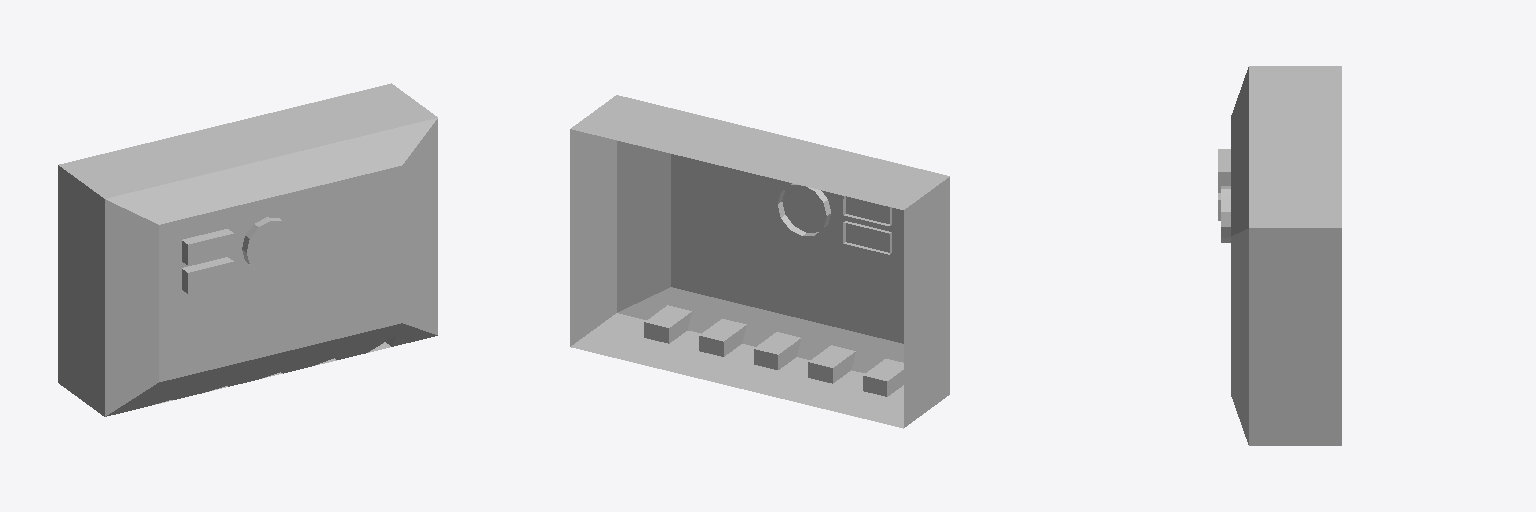
File: Air_Con.obj
3 renders of one model, left to right at view 1: azimuth 30°, elevation 25°; view 2: azimuth 150°, elevation 25°; view 3: azimuth 270°, elevation 25°, orthographic.
Parts seen in each view (by area): view 1: Air_Con; view 2: Air_Con; view 3: Air_Con.
Boxes of the visible parts, box(x1,y1,x2,y2) form: Air_Con: box(58, 83, 437, 416); Air_Con: box(570, 95, 949, 428); Air_Con: box(1218, 66, 1341, 445).
Bounding box in the file's own units: 1.46 × 0.9142 × 0.4733.